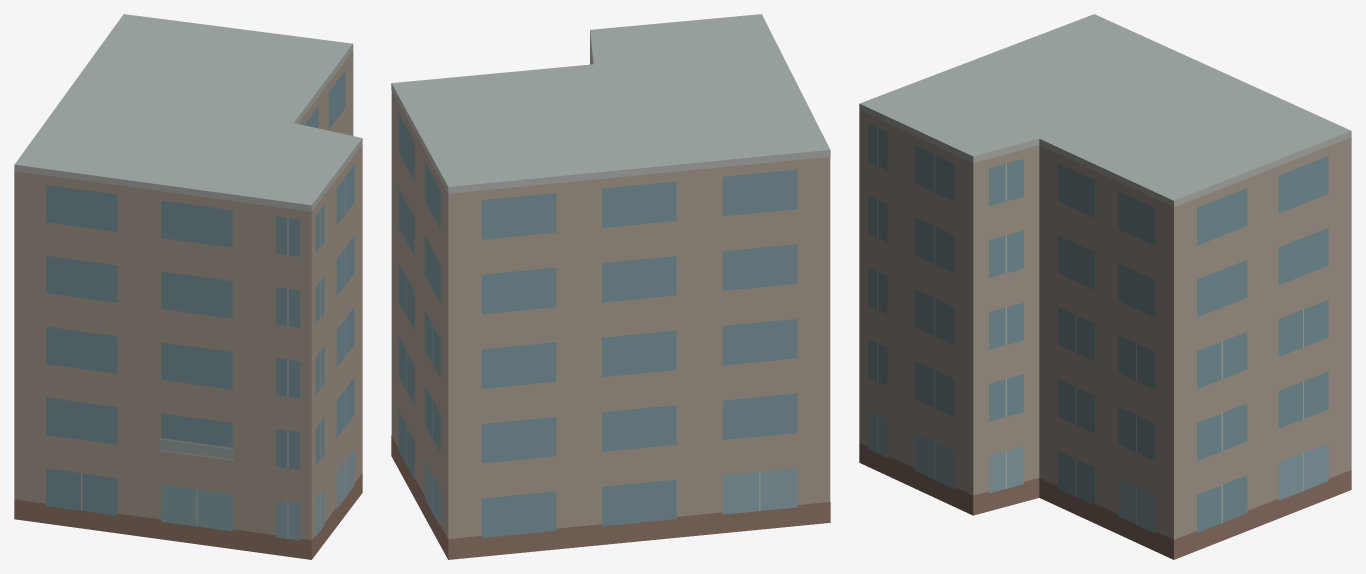
File: survey-upis-32583764.glb
The picture shows the model from 3 angles, left to right: view 1: azimuth 30°, elevation 25°; view 2: azimuth 150°, elevation 25°; view 3: azimuth 270°, elevation 25°; orthographic projection. The views are drawn at different scales.
Parts seen in each view (by area): view 1: survey-upis-32583764.tmp; view 2: survey-upis-32583764.tmp; view 3: survey-upis-32583764.tmp.
Boxes of the visible parts, x1=… form: survey-upis-32583764.tmp: x1=14, y1=14, x2=362, y2=559; survey-upis-32583764.tmp: x1=391, y1=14, x2=830, y2=559; survey-upis-32583764.tmp: x1=859, y1=14, x2=1351, y2=559.
Bounding box in the file's own units: 14.96 × 13.4 × 16.66.
